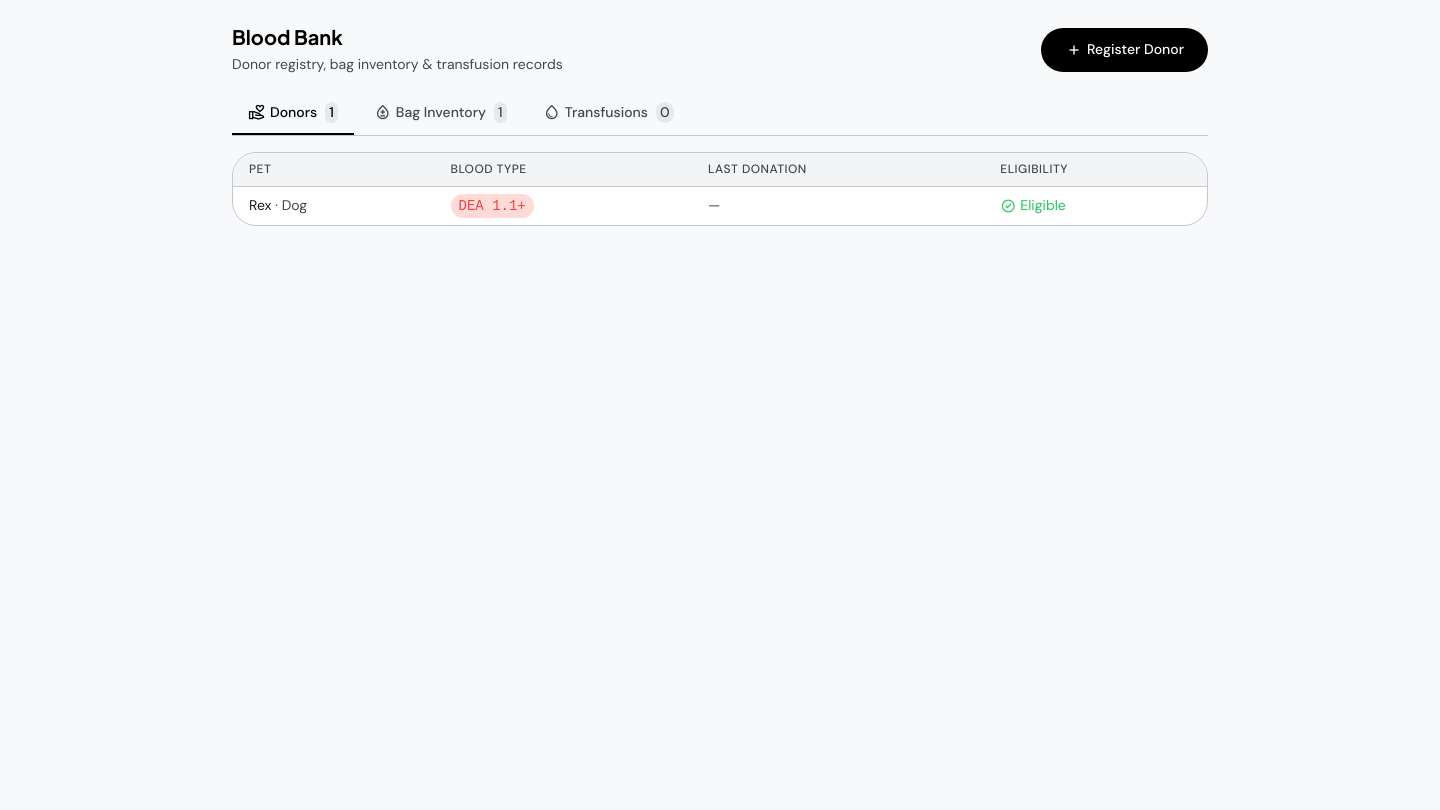
Test: AdminBloodBank — clinic_staff lacks bloodbank.manage: every write is denied server-side (MODAL-9 negative AC) › MODAL-9-REGR: a denied collection keeps the dialog open and records no bag (patient-safety path)
Click the button "Bag Inventory 1": coordinates (440, 113) [358, 91, 523, 135]
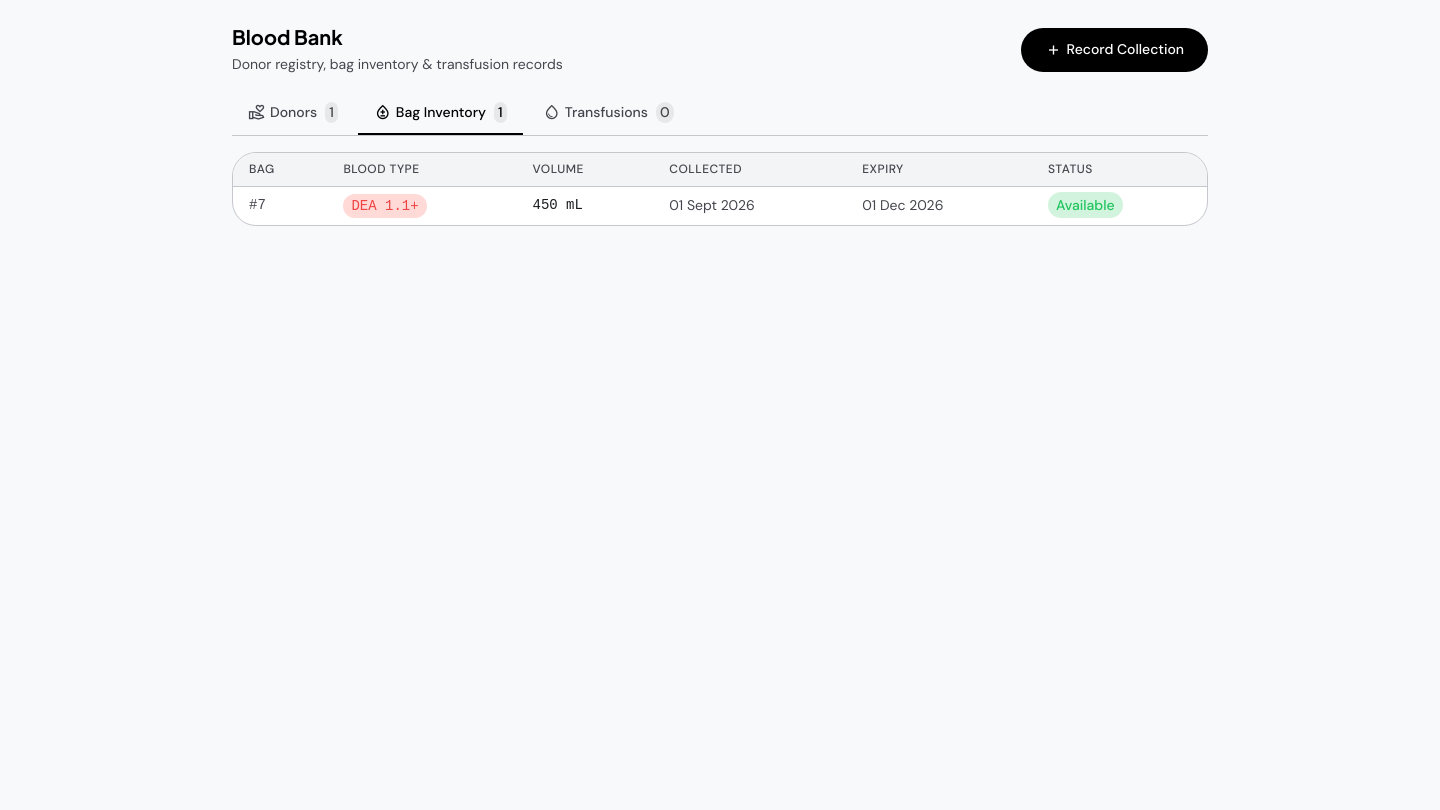
Click the button "Record Collection": coordinates (1114, 50) [1021, 28, 1208, 72]
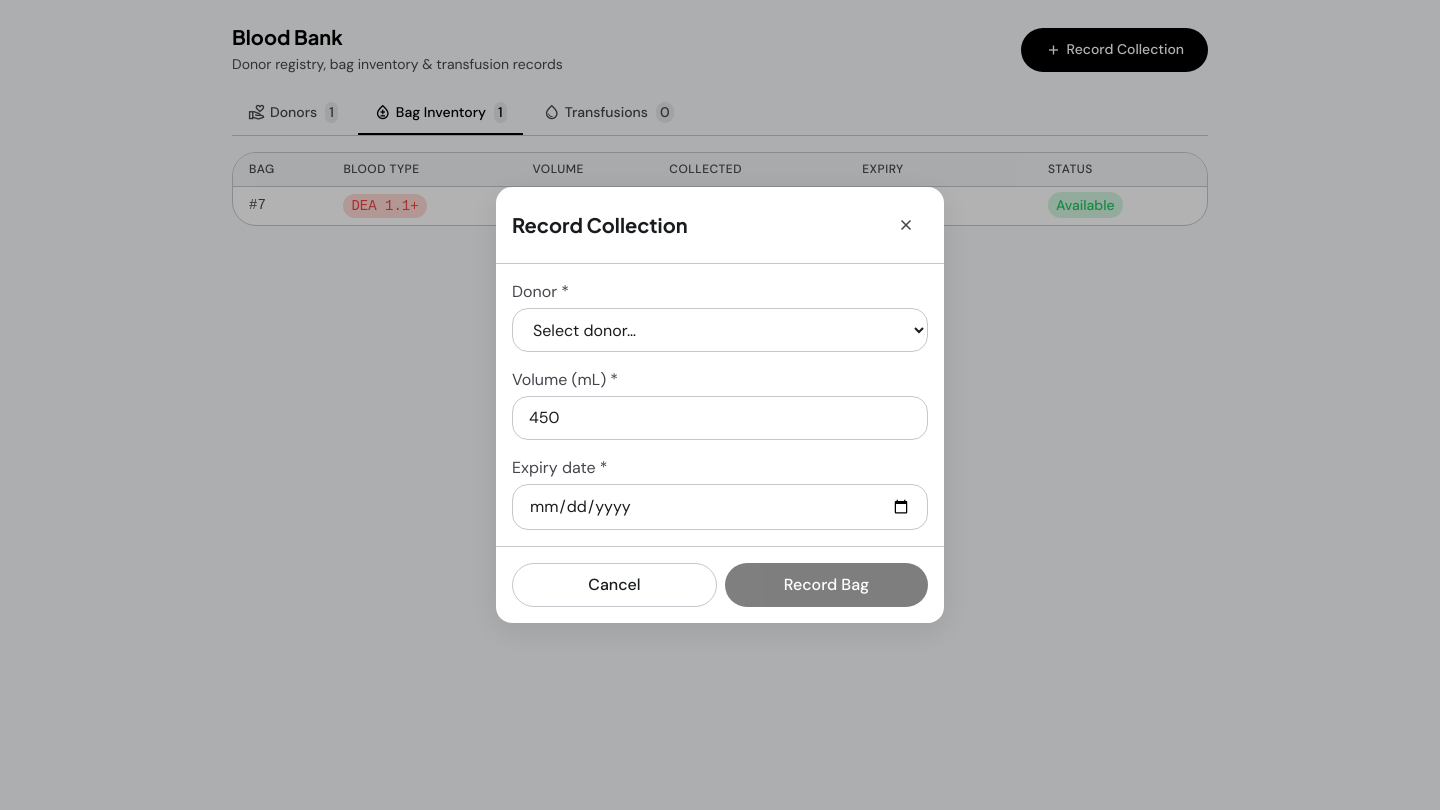
Select "Rex · DEA 1.1+" in the dropdown: coordinates (720, 330) [512, 308, 928, 352]
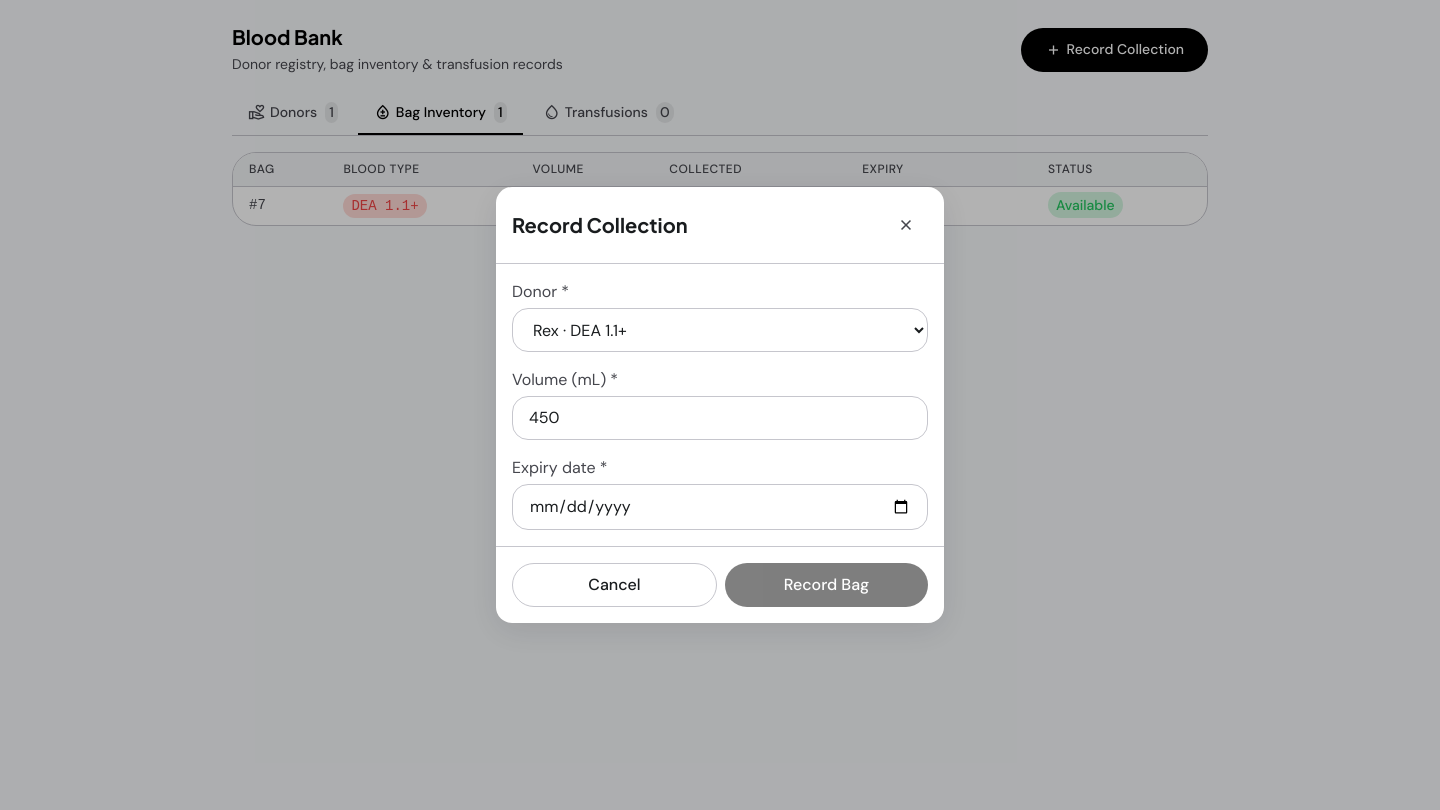
In the date field: coordinates (720, 507) [512, 484, 928, 530], type "2026-12-01"
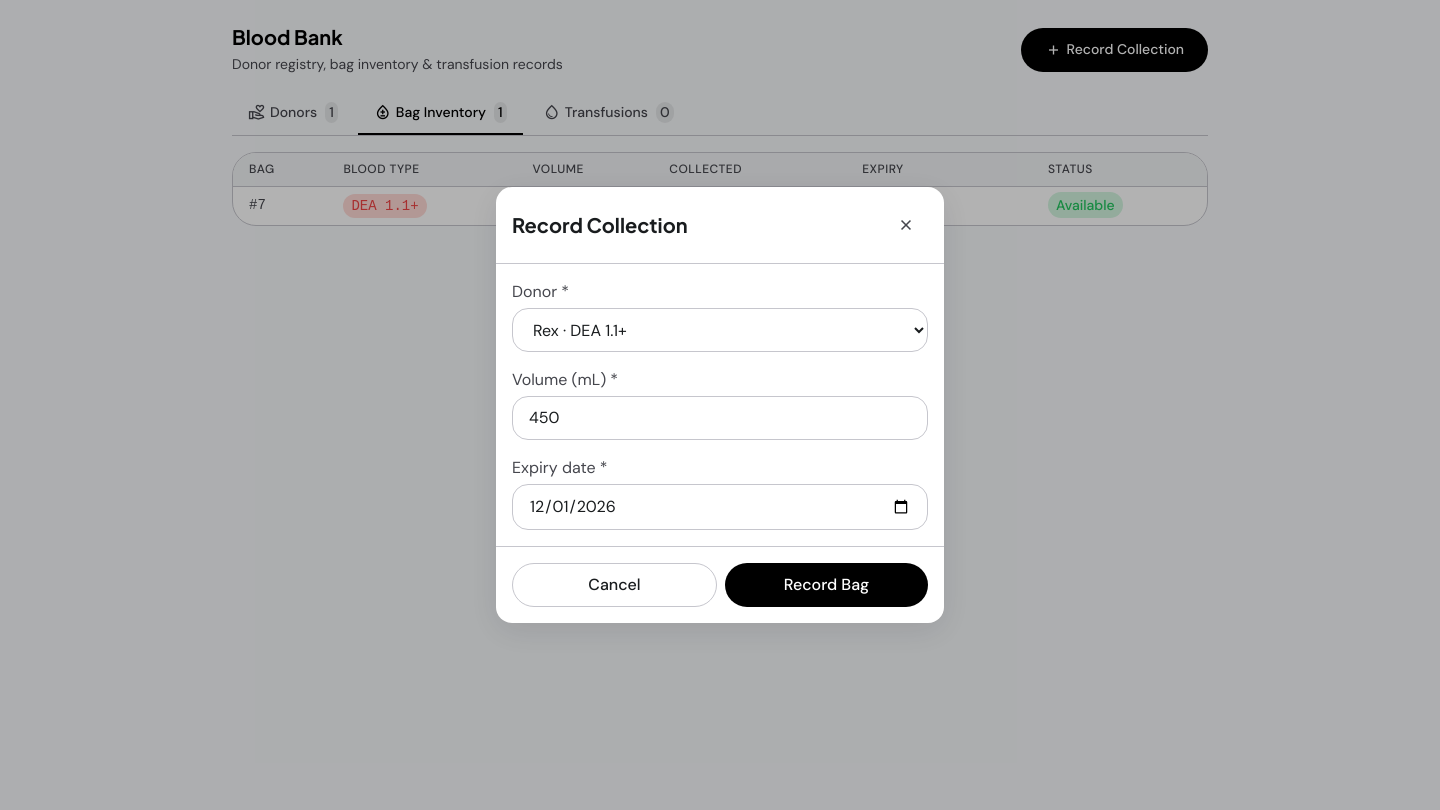
Click the button "Record Bag": coordinates (826, 585) [725, 563, 928, 607]
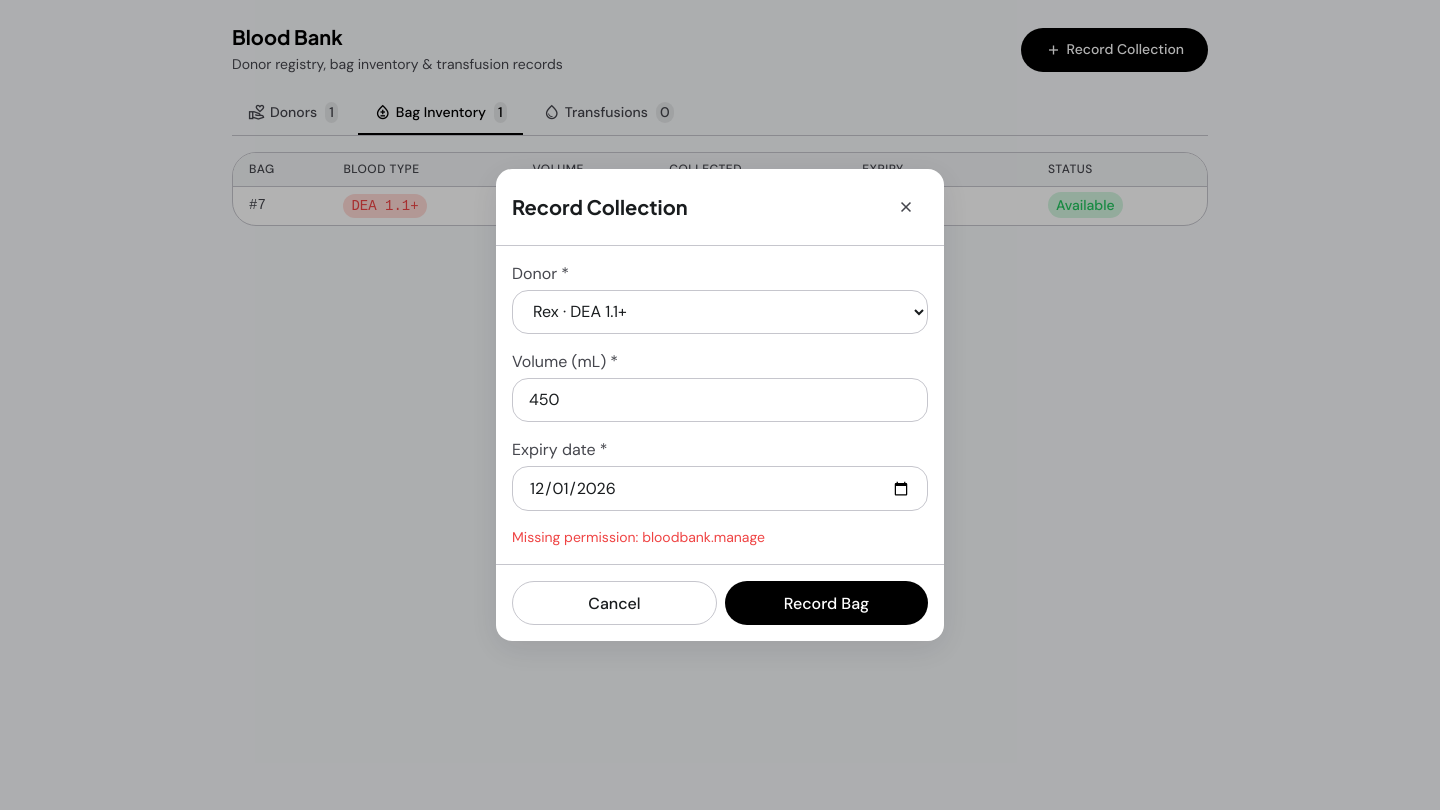
Check: the dialog is shown, box [496, 169, 944, 641]
Check: the text "Missing permission: bloodbank.manage" is shown, box [512, 528, 765, 546]
